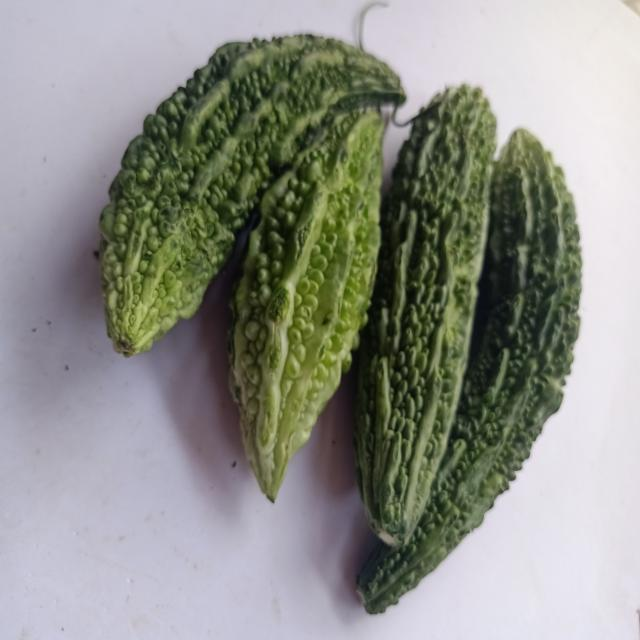Bitter Gourd: (345, 126, 595, 631), (93, 28, 411, 364), (347, 73, 505, 553), (219, 107, 398, 510)
